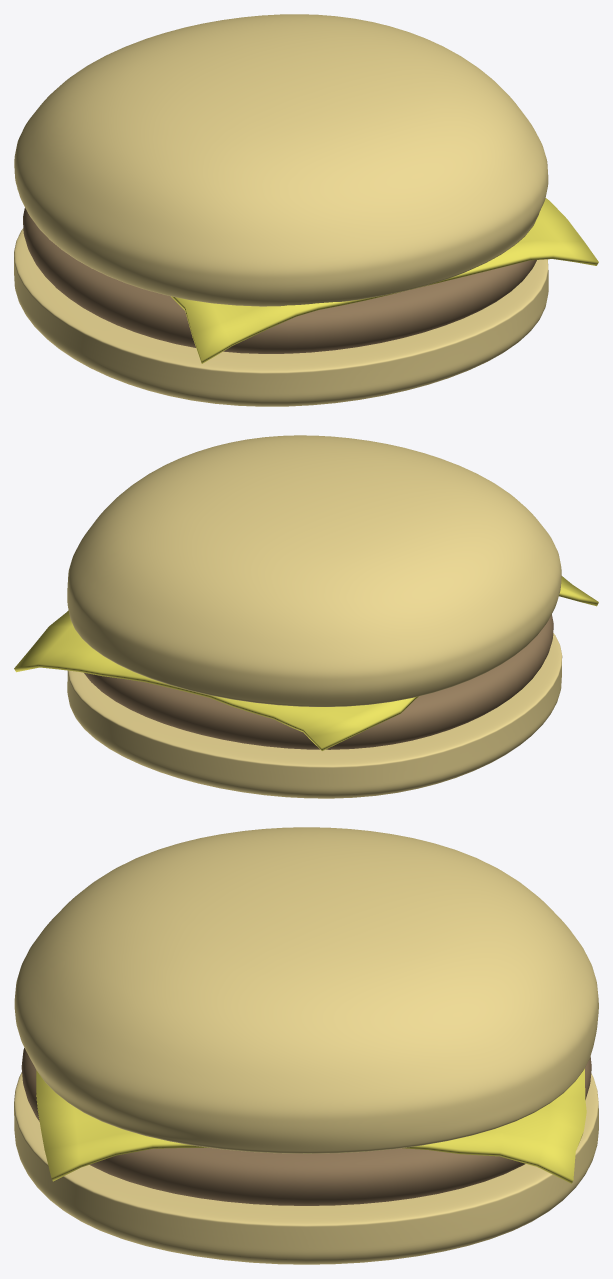
File: hamburger.glb
The picture shows the model from 3 angles, top to bottom: view 1: azimuth 30°, elevation 25°; view 2: azimuth 150°, elevation 25°; view 3: azimuth 270°, elevation 25°; orthographic projection. The views are drawn at different scales.
Parts seen in each view (by area): view 1: Cube.002, Cube, Cube.001, Plane; view 2: Cube.002, Cube, Cube.001, Plane; view 3: Cube.002, Cube, Cube.001, Plane.
Boxes of the visible parts, x1=… form: Cube.002: x1=14, y1=14, x2=548, y2=306; Cube: x1=14, y1=228, x2=548, y2=406; Cube.001: x1=23, y1=208, x2=536, y2=353; Plane: x1=17, y1=189, x2=598, y2=363; Cube.002: x1=67, y1=435, x2=561, y2=706; Cube: x1=67, y1=633, x2=562, y2=798; Cube.001: x1=84, y1=614, x2=553, y2=749; Plane: x1=14, y1=576, x2=598, y2=750; Cube.002: x1=14, y1=827, x2=598, y2=1153; Cube: x1=14, y1=1072, x2=598, y2=1264; Cube.001: x1=21, y1=1048, x2=591, y2=1205; Plane: x1=36, y1=1068, x2=586, y2=1183.
Size of the model in its own units: 7.95 by 4.19 by 7.95.
